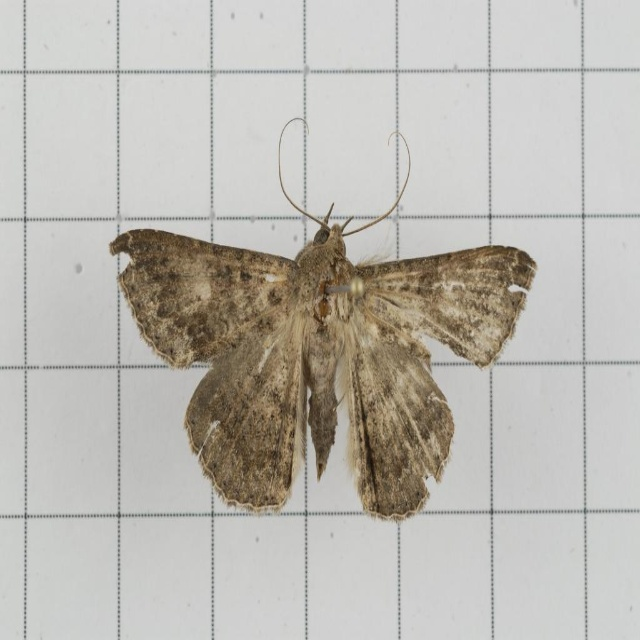Moths and butterflies: (108, 114, 542, 524)
